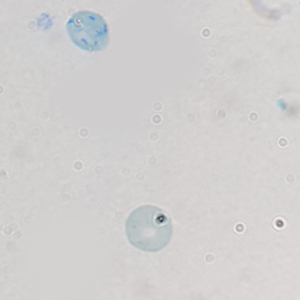aggregate reticulocyte: (65, 9, 112, 53)
punctate reticulocyte: (124, 204, 175, 254)
